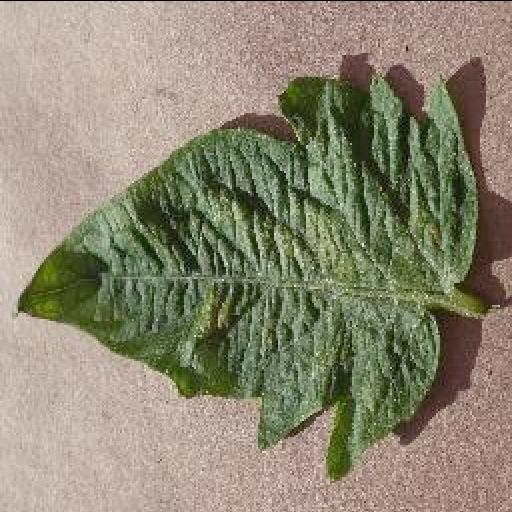disease_tomato: (14, 72, 488, 476)
